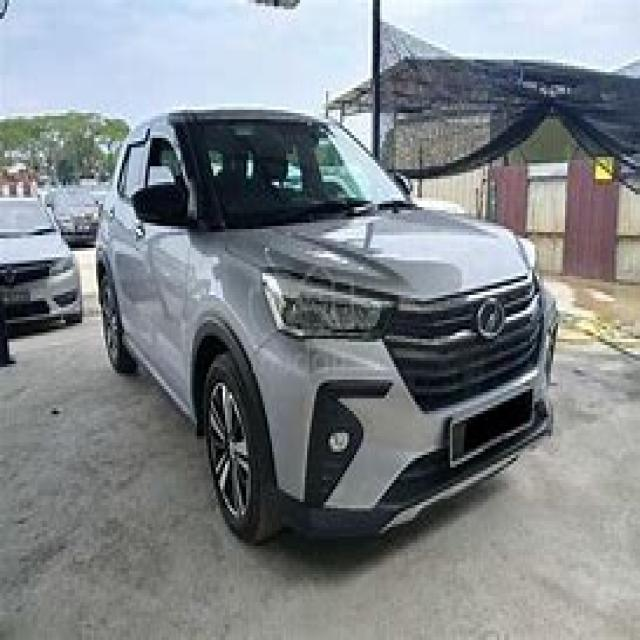PeroduaAtiva: (91, 103, 558, 546)
